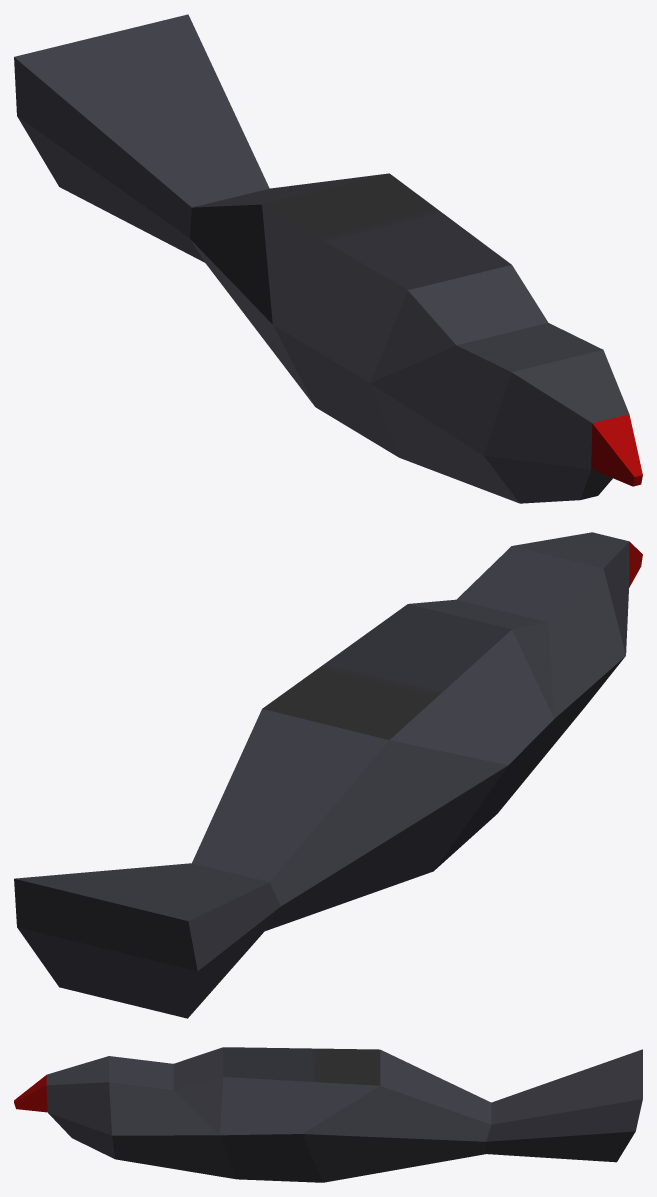
Rendered from crow_parts.glb.
3 views of the same model, one above another, from view 1: azimuth 30°, elevation 25°; view 2: azimuth 150°, elevation 25°; view 3: azimuth 270°, elevation 25° (orthographic). The views are drawn at different scales.
Parts seen in each view (by area): view 1: front, body, tail; view 2: body, tail, front; view 3: body, front, tail.
Part boxes in pixels (bbox=[...]): front: bbox=[370, 265, 642, 503]; body: bbox=[189, 173, 511, 457]; tail: bbox=[14, 14, 269, 262]; body: bbox=[192, 604, 553, 930]; tail: bbox=[14, 863, 280, 1018]; front: bbox=[409, 532, 642, 812]; body: bbox=[219, 1047, 491, 1182]; front: bbox=[14, 1047, 236, 1179]; tail: bbox=[486, 1049, 642, 1162].
Bounding box in the file's own units: 0.1173 × 0.0849 × 0.4653.
1 material, 1 textured.
